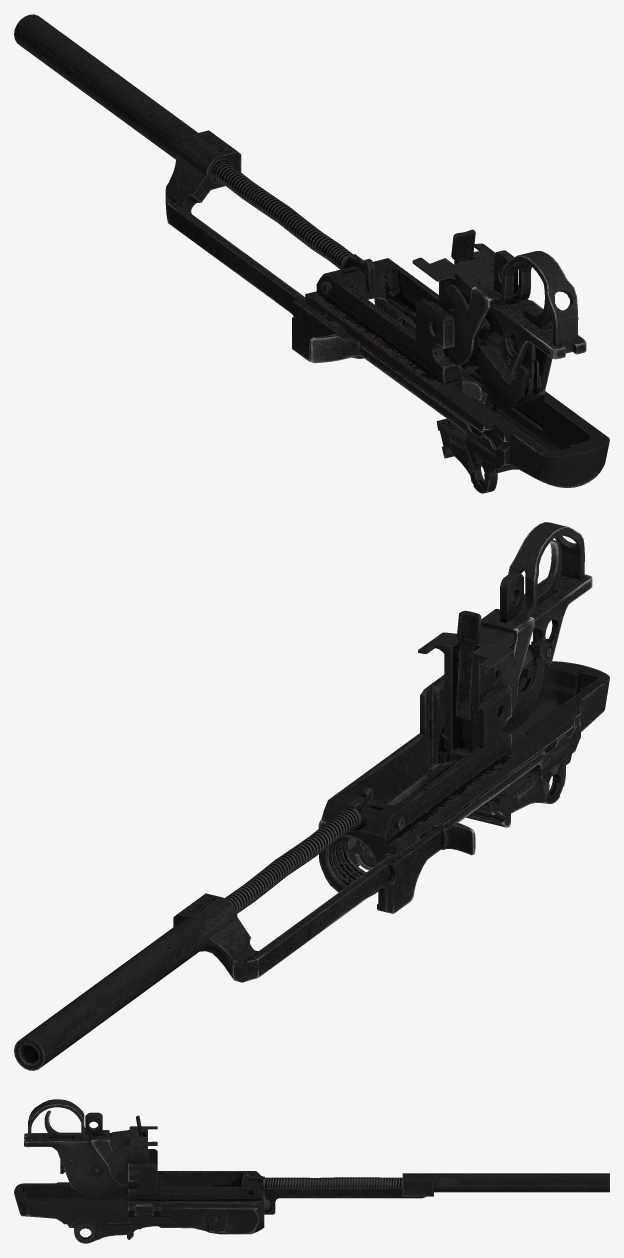
3 views of the same model, one above another, from view 1: azimuth 30°, elevation 25°; view 2: azimuth 150°, elevation 25°; view 3: azimuth 270°, elevation 25° (orthographic). The views are drawn at different scales.
Visible parts, largest first — view 1: TW_5aafa857e5b5b00018480968_PZ_Import; view 2: TW_5aafa857e5b5b00018480968_PZ_Import; view 3: TW_5aafa857e5b5b00018480968_PZ_Import.
Boxes of the visible parts, x1,y1,x2,y2 form: TW_5aafa857e5b5b00018480968_PZ_Import: (14, 14, 609, 493); TW_5aafa857e5b5b00018480968_PZ_Import: (14, 522, 609, 1070); TW_5aafa857e5b5b00018480968_PZ_Import: (14, 1099, 609, 1243).
Bounding box in the file's own units: 0.0373 × 0.2807 × 0.0686.
1 material, 1 textured.
